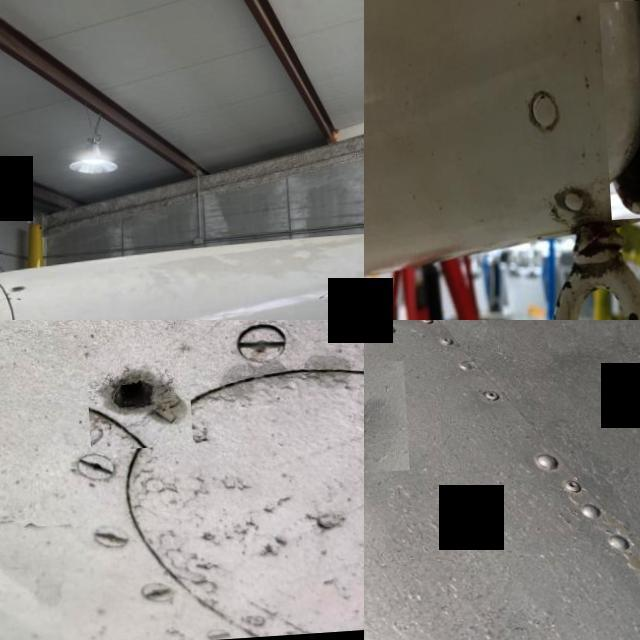Crack: (597, 1, 640, 224)
Dent: (364, 365, 404, 480), (334, 294, 352, 304)
Missing_Fastener: (81, 348, 188, 456)
